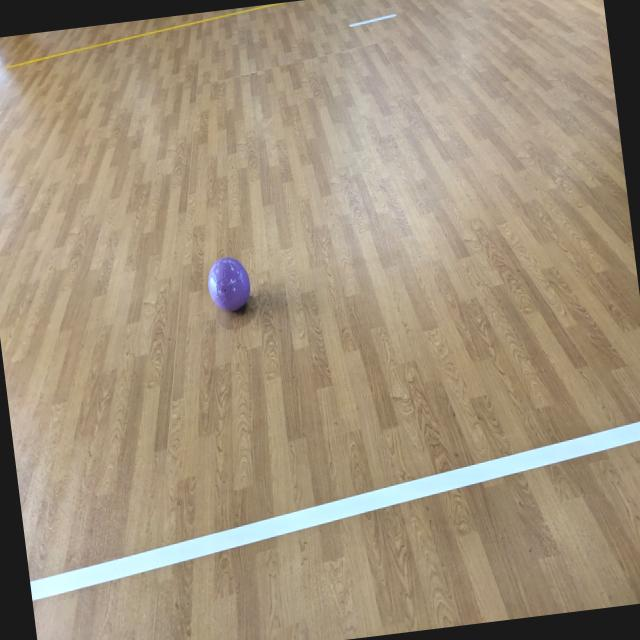purple_ball: (205, 252, 254, 314)
